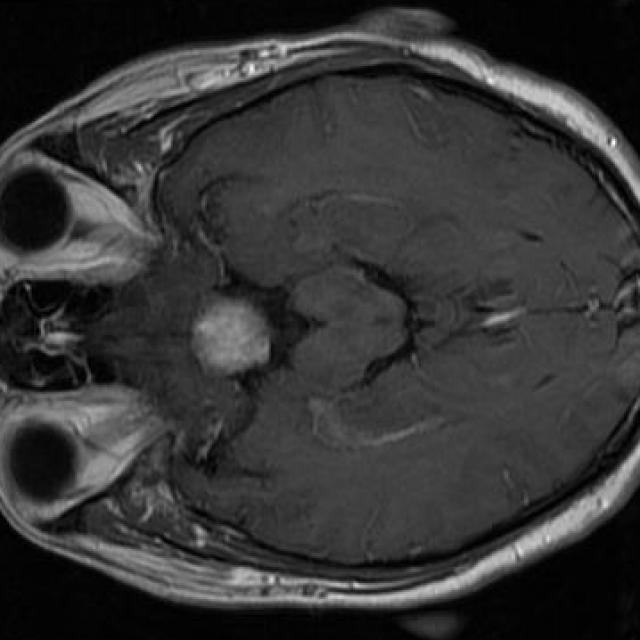pituitary: (191, 294, 273, 378)
